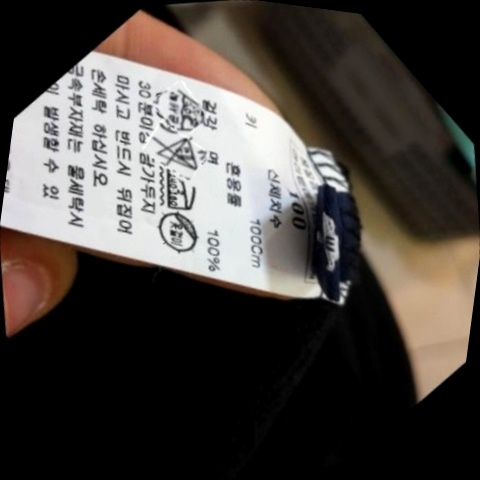hand_wash: (155, 79, 211, 137)
iron_medium: (158, 166, 207, 216)
line_dry_in_shade: (148, 201, 211, 263)
non_chlorine_bleach: (150, 129, 205, 177)
